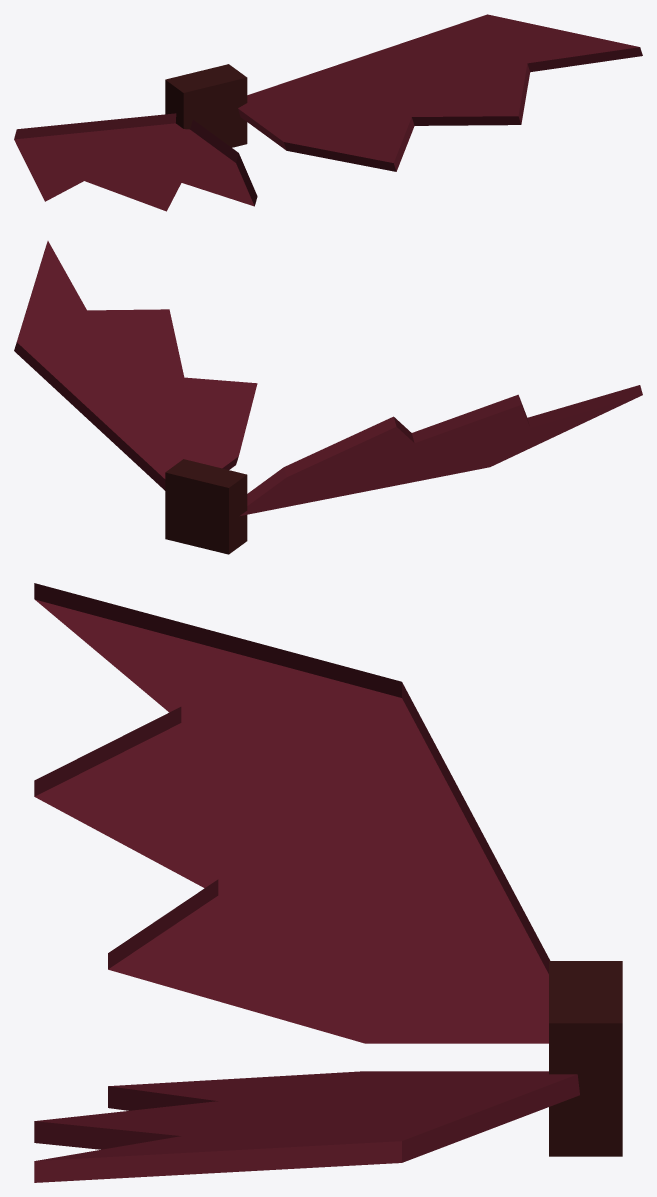
The model's file is betsy_wings.glb.
The picture shows the model from 3 angles, top to bottom: view 1: azimuth 30°, elevation 25°; view 2: azimuth 150°, elevation 25°; view 3: azimuth 270°, elevation 25°; orthographic projection. The views are drawn at different scales.
Parts seen in each view (by area): view 1: betsy_wings_v0; view 2: betsy_wings_v0; view 3: betsy_wings_v0.
Boxes of the visible parts, <box> form: betsy_wings_v0: <box>14,14,642,211</box>; betsy_wings_v0: <box>14,241,642,554</box>; betsy_wings_v0: <box>34,583,622,1182</box>.
Size of the model in its own units: 0.7514 by 0.1521 by 0.32.
